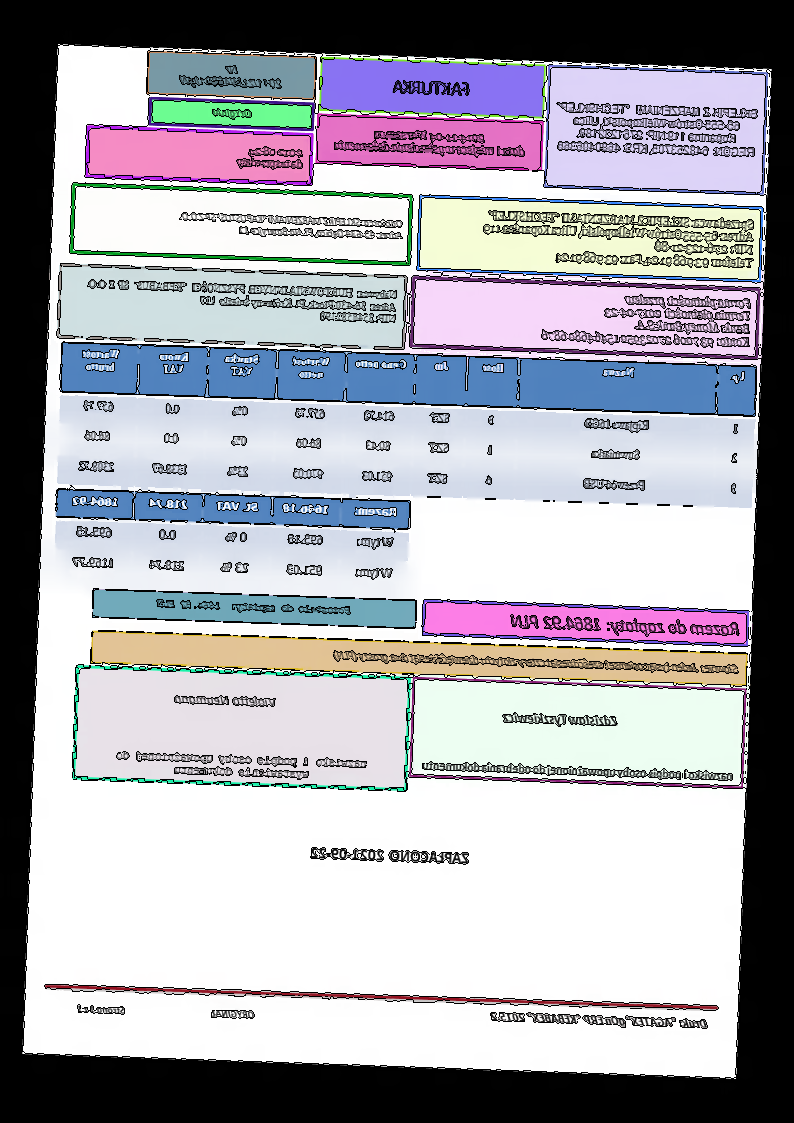Table: (57, 340, 760, 510), (53, 488, 413, 593)
TextBox: (479, 205, 758, 273), (84, 276, 401, 328), (538, 287, 755, 352), (554, 98, 761, 161), (331, 647, 742, 678), (110, 746, 370, 783), (419, 756, 737, 784), (180, 207, 406, 243), (509, 611, 744, 642), (331, 126, 528, 161), (486, 1006, 712, 1033), (73, 1000, 260, 1022), (155, 596, 356, 616), (306, 843, 473, 867), (176, 59, 287, 93), (501, 706, 621, 730), (235, 142, 308, 174), (174, 689, 280, 711), (389, 77, 472, 100), (209, 105, 254, 122)
